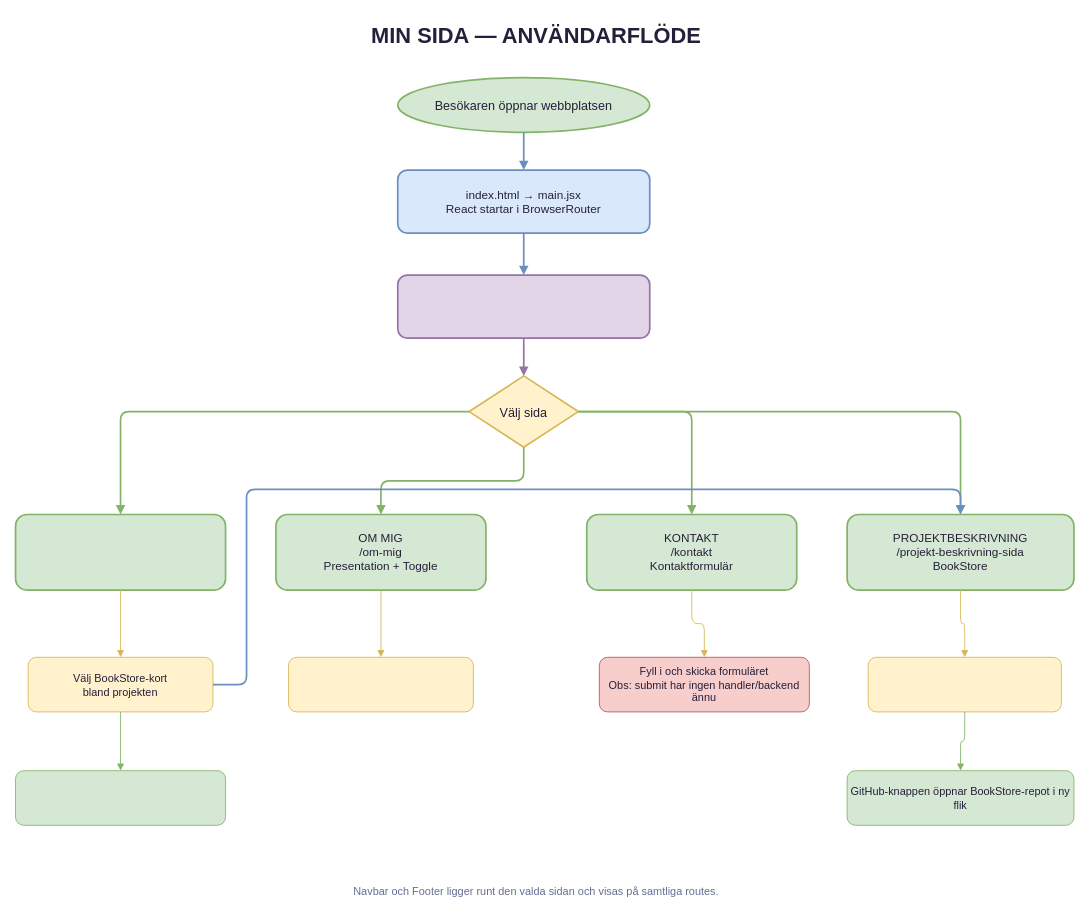
This 1089x919 diagram has some shape labels left out. Each missing label, with the centre of its shape:
"App visar Navbar och Footer Routes väljer sida från URL:en" goes at pixel 523 306.
"HEM / Header → Hero → Projektkort" goes at pixel 120 552.
"Klicka Visa mer/mindre text visas eller döljs" goes at pixel 380 684.
"Visa mer/mindre visar analys av SOLID och mönster" goes at pixel 964 684.
"Övriga kort öppnar externa GitHub-länkar" goes at pixel 120 797.
